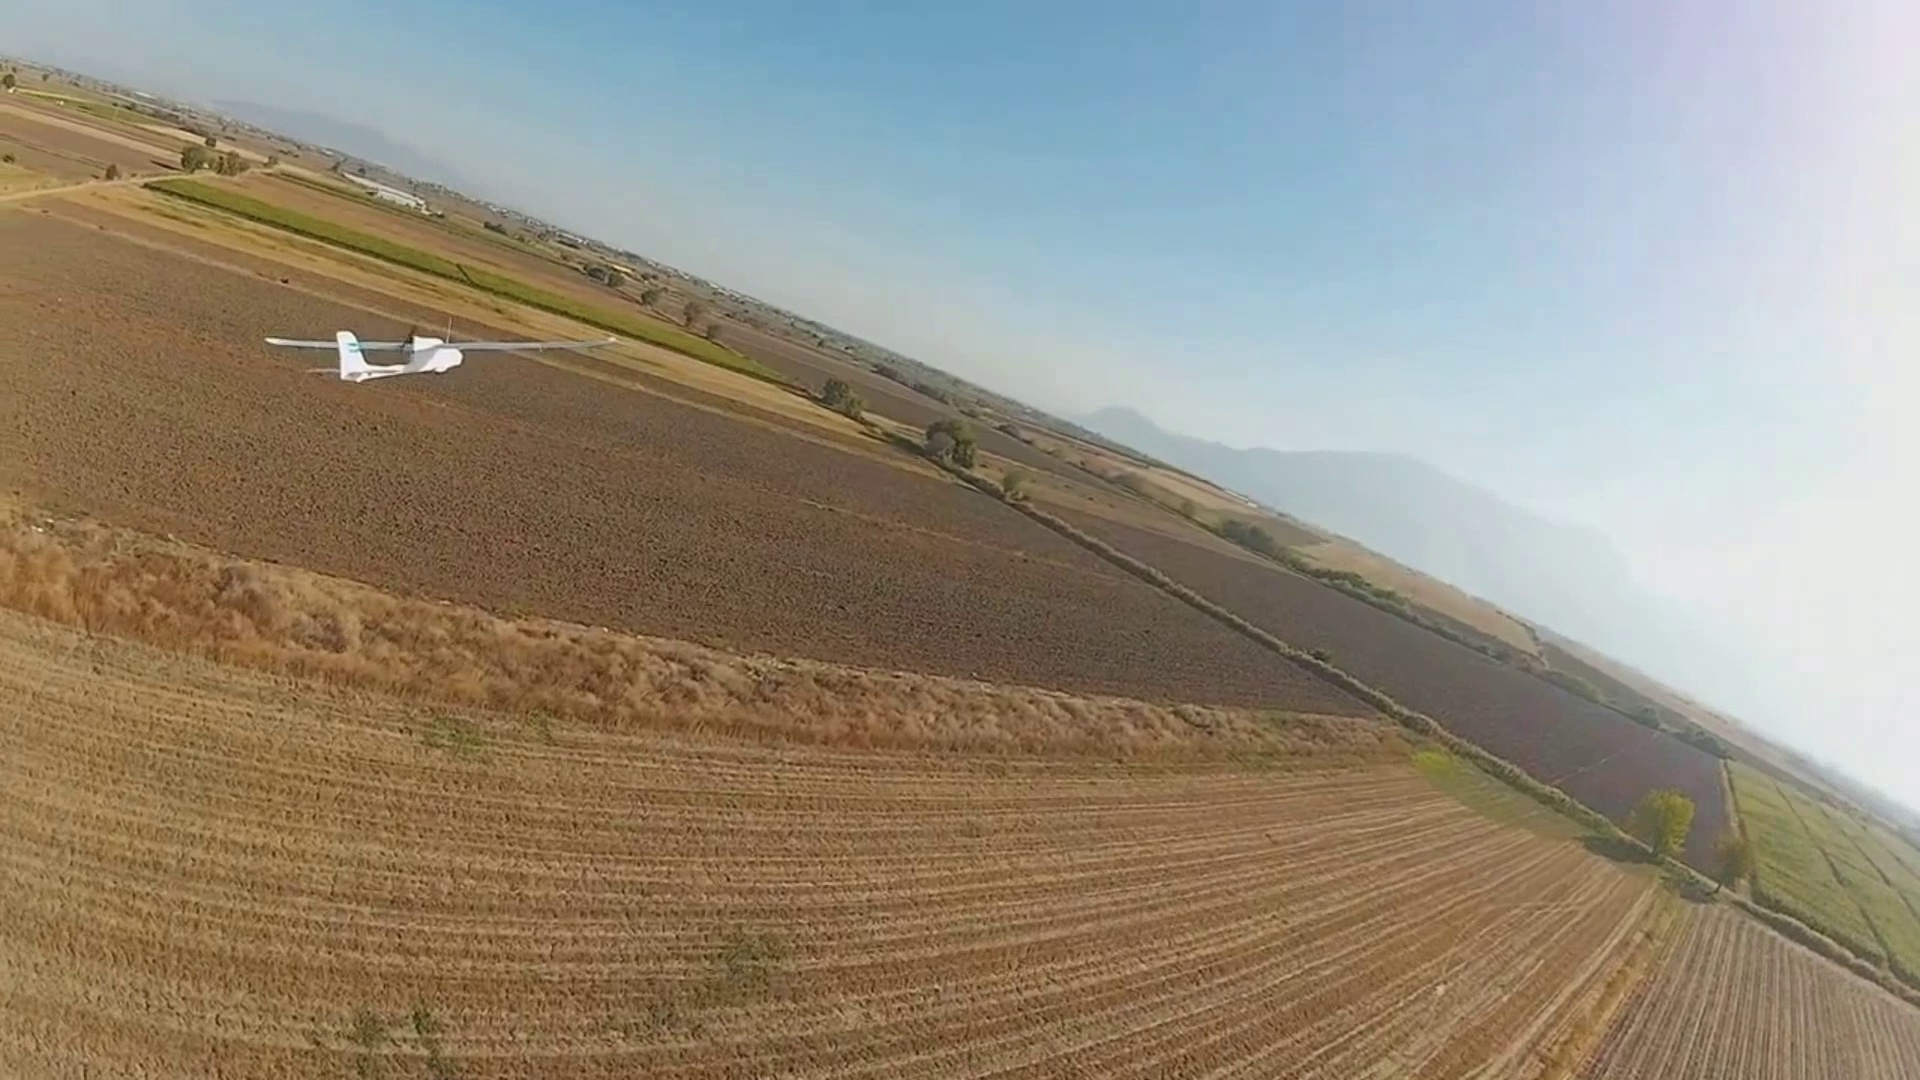airplane: (263, 327, 461, 379)
